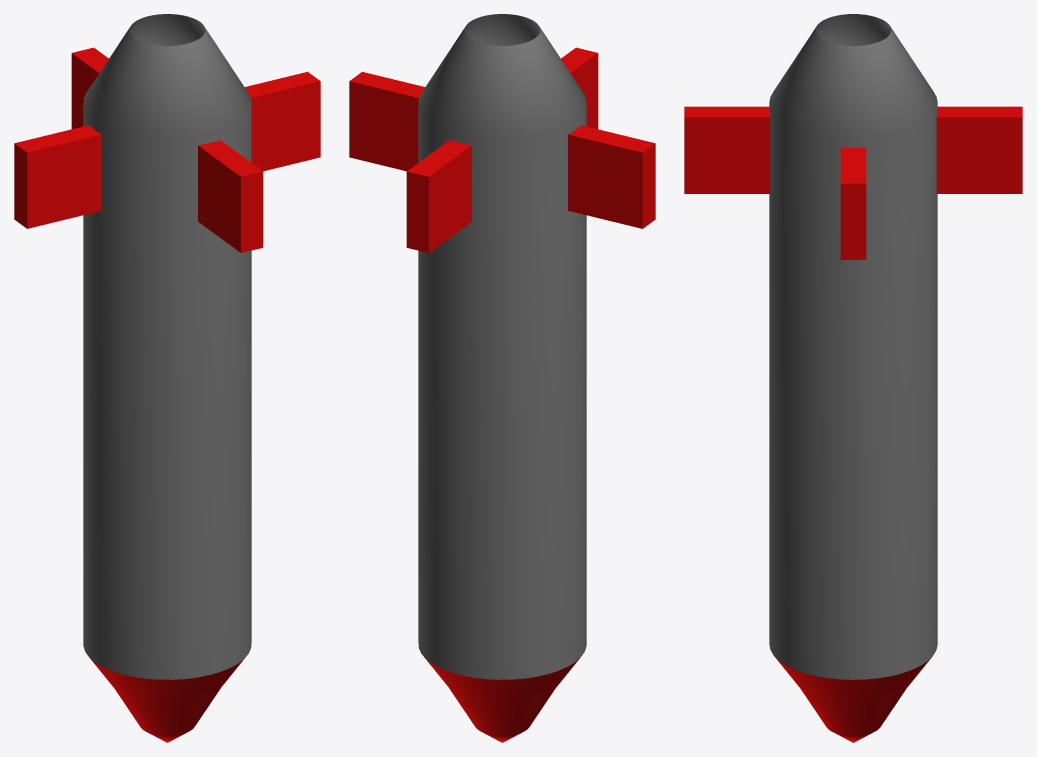
Rendered from foguete.fbx.
3 renders of one model, left to right at view 1: azimuth 30°, elevation 25°; view 2: azimuth 150°, elevation 25°; view 3: azimuth 270°, elevation 25°, orthographic.
Parts seen in each view (by area): view 1: pCube3; view 2: pCube3; view 3: pCube3.
Part boxes in pixels (<box>): pCube3: <box>14,14,320,742</box>; pCube3: <box>349,14,655,742</box>; pCube3: <box>684,14,1022,742</box>.
Bounding box in the file's own units: 4.02 × 9.35 × 4.02.
